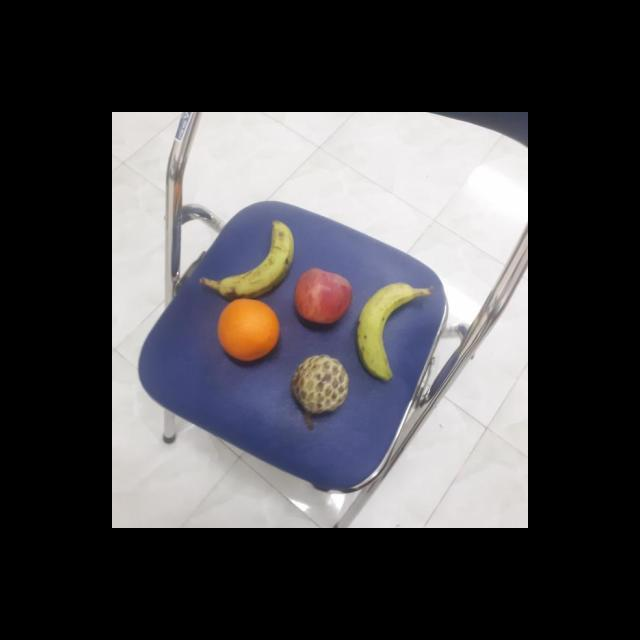Sakya fruit: (288, 352, 349, 414)
apple: (294, 266, 358, 325)
banana: (352, 280, 428, 382), (215, 218, 303, 300)
orange: (215, 296, 282, 362)
